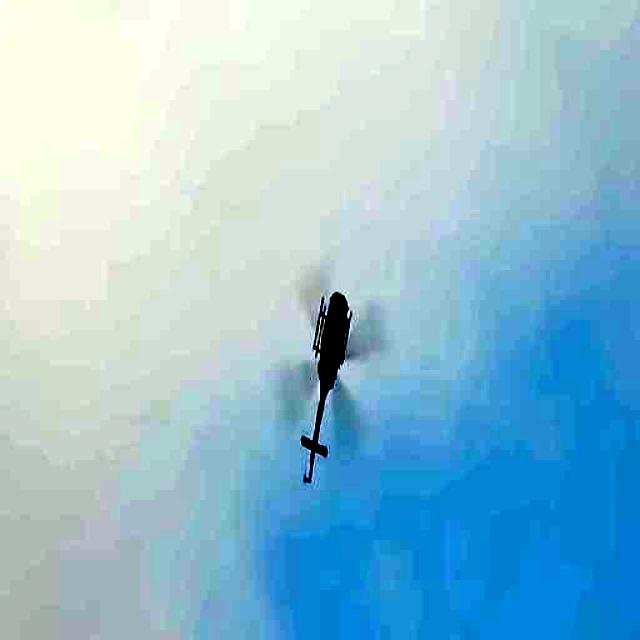drone: (298, 255, 366, 495)
